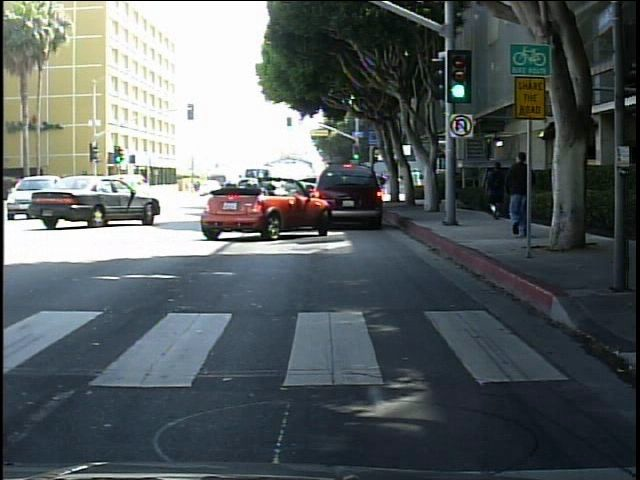person: (490, 134, 547, 253), (486, 157, 509, 222), (409, 164, 425, 199)
